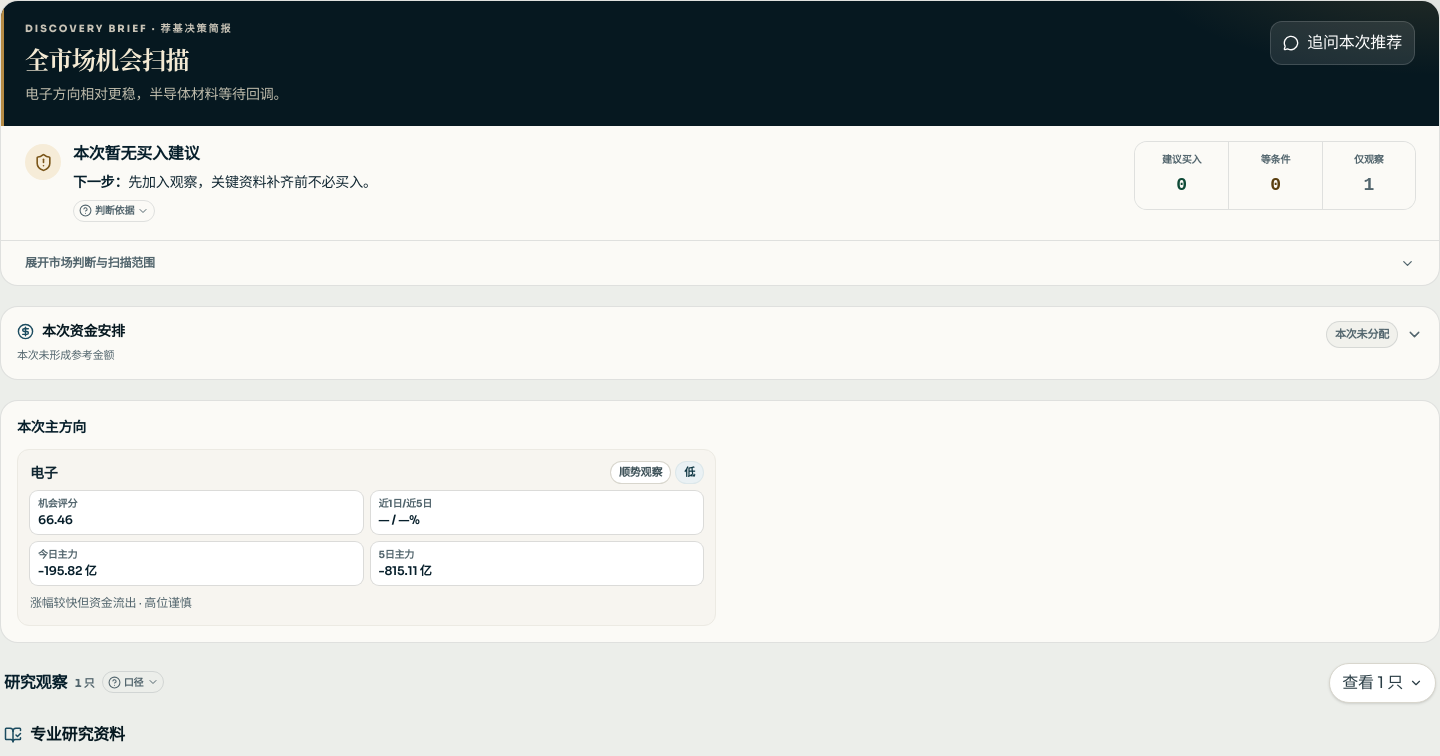
Test: DiscoveryReportPanel › fails closed when a modern allocation plan has no verified allocation row
Expected: the heading "本次暂无买入建议" is shown, [73,143,200,164]
Expected: the heading "研究观察" is shown, [4,671,67,695]
What coordinates should you click on to do the following:
click the button "查看 1 只"
I would click on:
 (1383, 684)
Its box is [1329,664,1436,704].
(page scrolled)
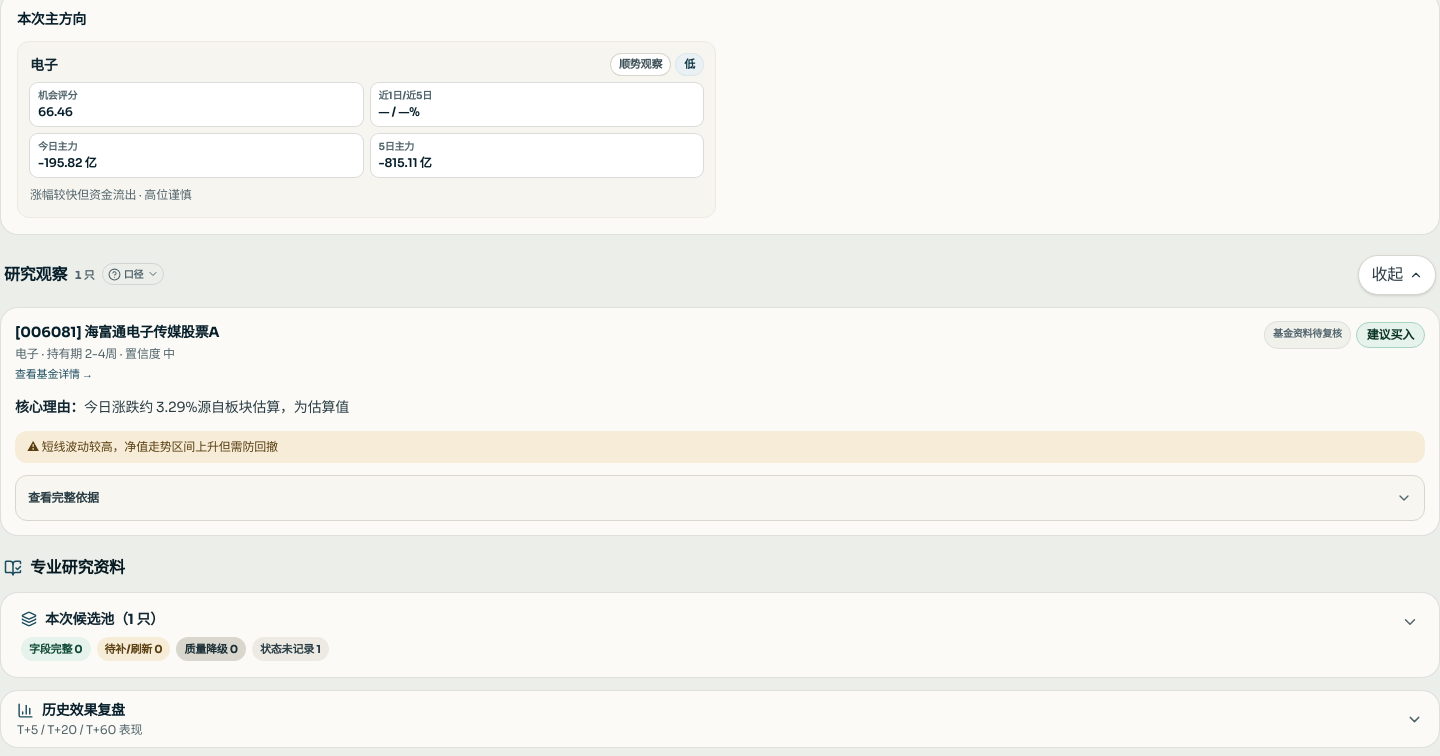
What coordinates should you click on to do the following:
click the heading "查看完整依据"
I would click on:
 (63, 497)
Its box is [28,490,1412,506].
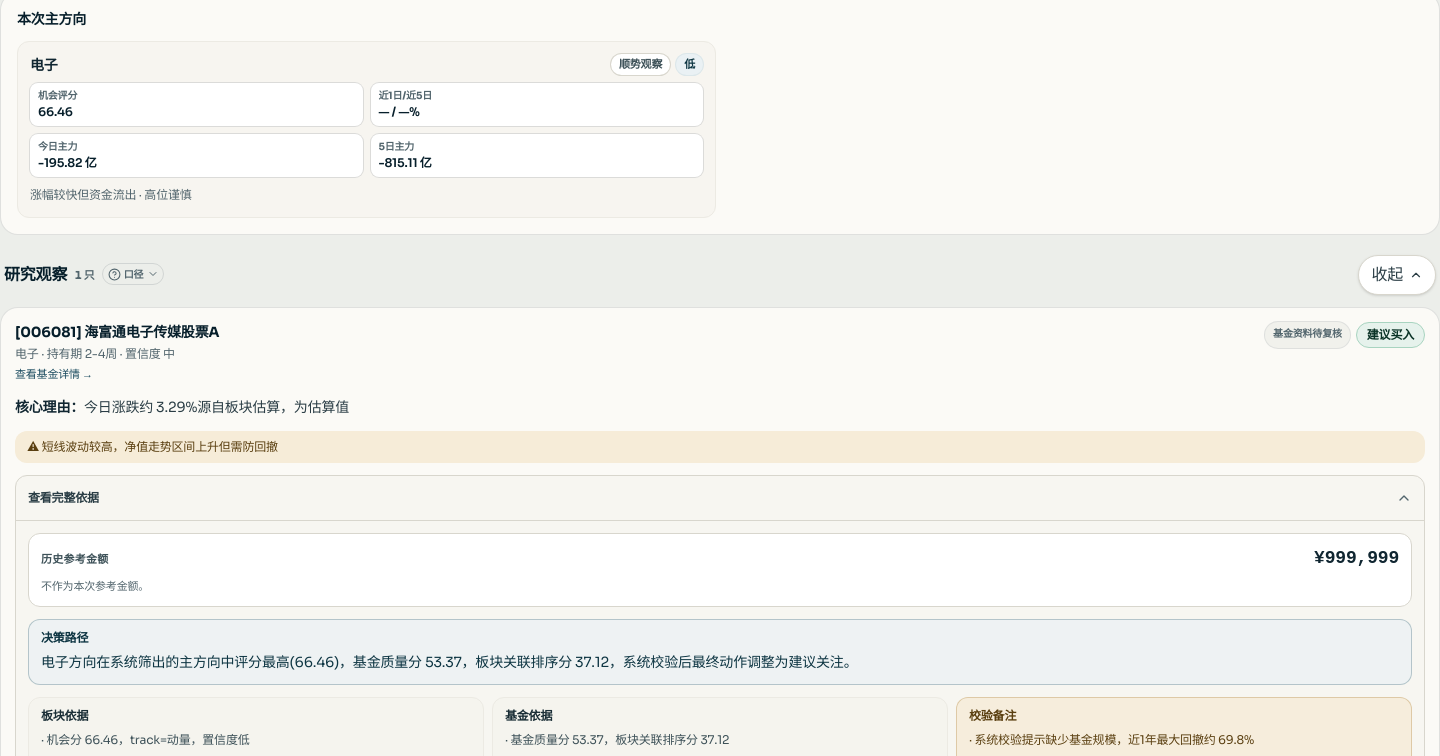
Expected: the element labelled "历史参考金额" shows "¥999,999", [1314,548,1399,568]
